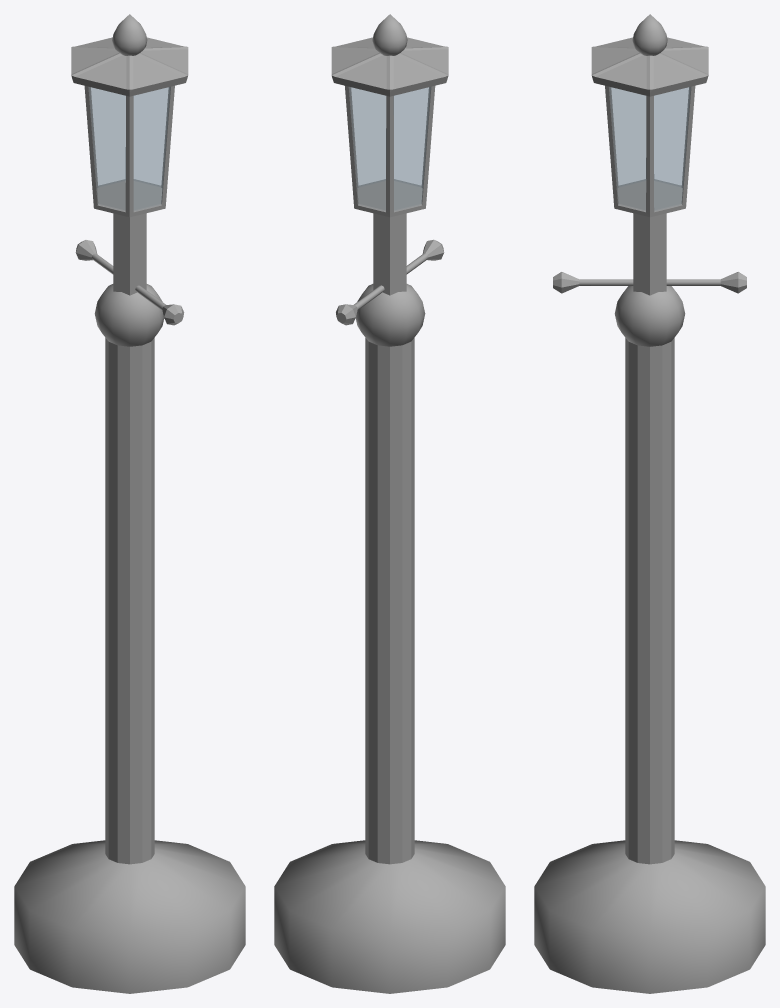
File: itemMesh_creoleIs_streetlight.fbx
3 renders of one model, left to right at view 1: azimuth 30°, elevation 25°; view 2: azimuth 150°, elevation 25°; view 3: azimuth 270°, elevation 25°, orthographic.
Parts seen in each view (by area): view 1: CreoleStreetlight; view 2: CreoleStreetlight; view 3: CreoleStreetlight.
Part boxes in pixels (x1,y1,x2,y2): CreoleStreetlight: (14, 14, 245, 993); CreoleStreetlight: (274, 14, 505, 993); CreoleStreetlight: (534, 14, 765, 993).
Size of the model in its own units: 0.6549 by 2.91 by 0.6549.
